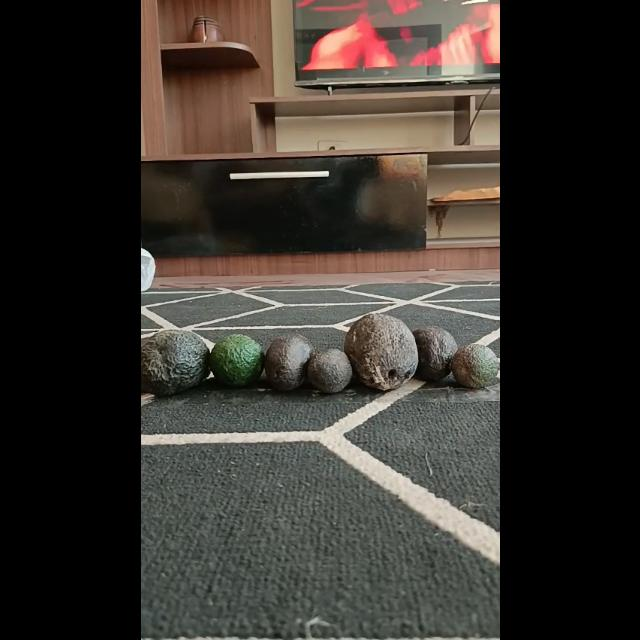Primera: (343, 312, 417, 390), (140, 329, 210, 396)
Segunda: (208, 334, 264, 386), (263, 333, 313, 391), (410, 326, 458, 380)
Tercera: (306, 348, 352, 394), (449, 344, 497, 388)
